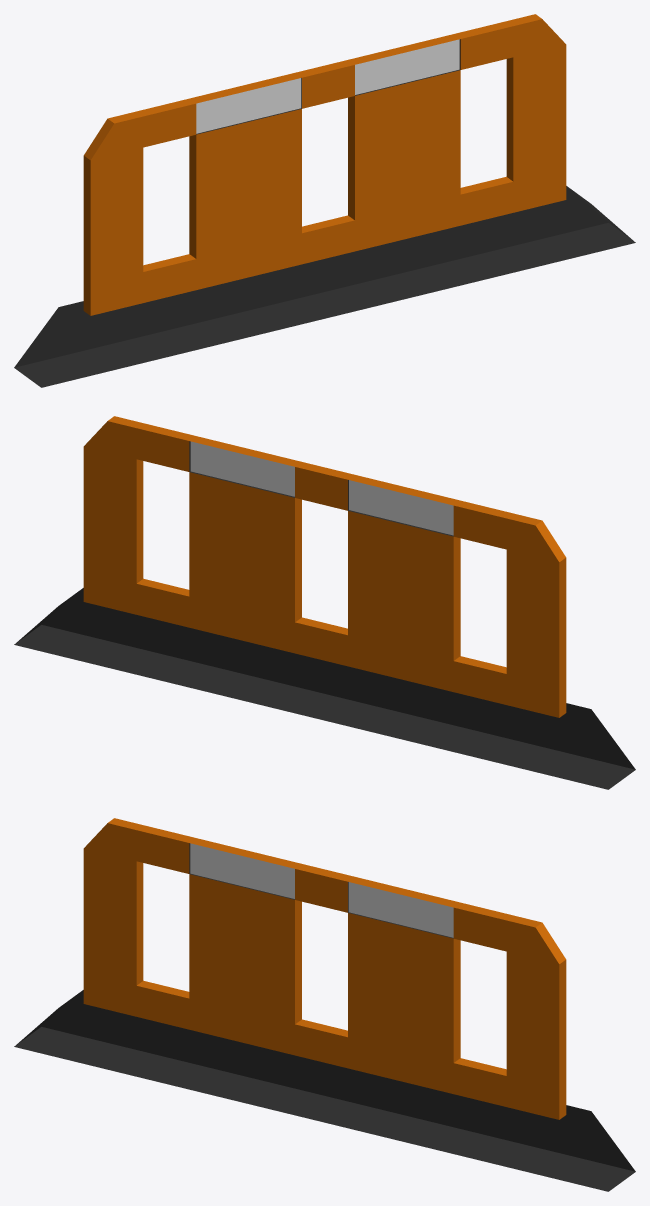
The model's file is RoadworkBarrierV2.fbx.
3 renders of one model, top to bottom at view 1: azimuth 30°, elevation 25°; view 2: azimuth 150°, elevation 25°; view 3: azimuth 330°, elevation 25°, orthographic.
Visible parts, largest first — view 1: Cube.001; view 2: Cube.001; view 3: Cube.001.
Boxes of the visible parts, <box> form: Cube.001: <box>14,14,635,387</box>; Cube.001: <box>14,416,635,789</box>; Cube.001: <box>14,818,635,1191</box>.
Size of the model in its own units: 500 by 190 by 40.
